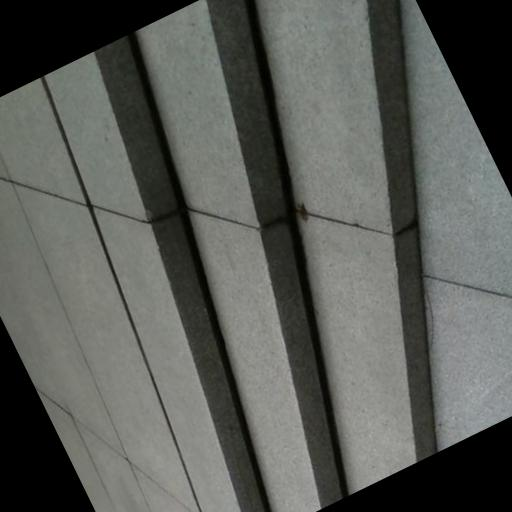stairs: (45, 0, 435, 511)
